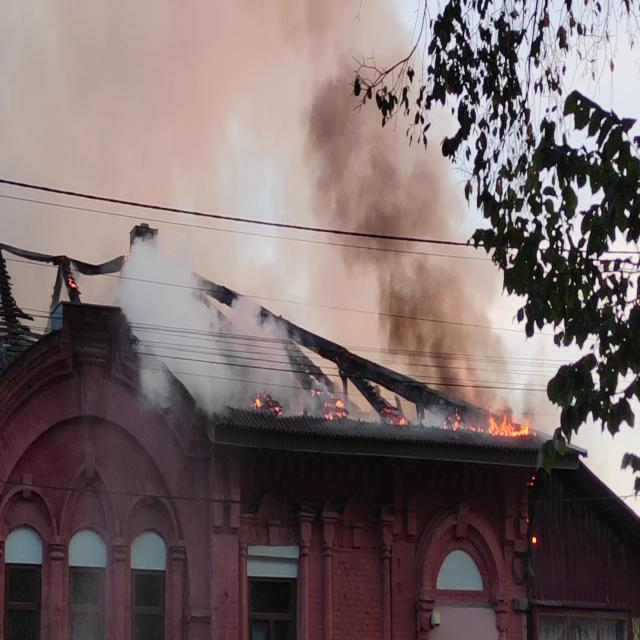fire: (476, 406, 533, 440), (312, 391, 352, 426)
smoke: (350, 113, 454, 294), (134, 257, 201, 370)
